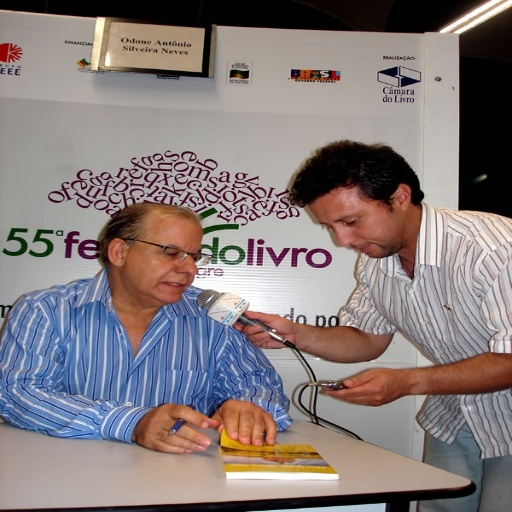hand: (131, 401, 218, 455), (320, 366, 410, 408), (209, 400, 277, 448), (233, 308, 297, 348)
